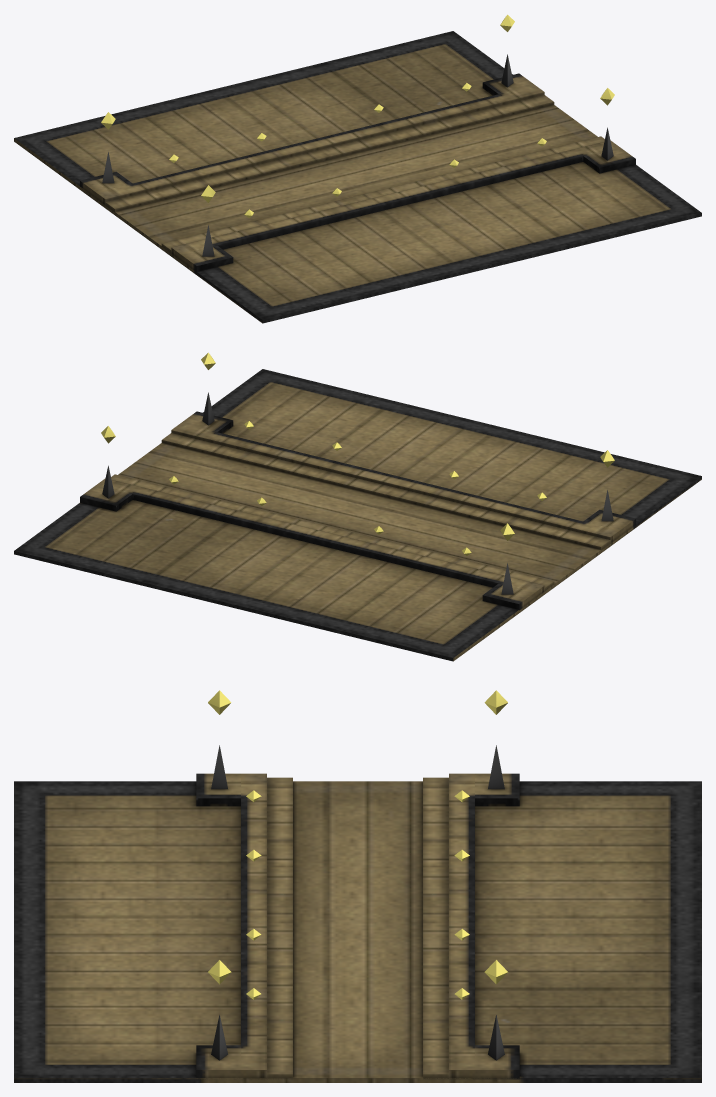
File: Airport001.fbx
3 renders of one model, top to bottom at view 1: azimuth 30°, elevation 25°; view 2: azimuth 150°, elevation 25°; view 3: azimuth 270°, elevation 25°, orthographic. The views are drawn at different scales.
Parts seen in each view (by area): view 1: airport, airport_light; view 2: airport, airport_light; view 3: airport, airport_light.
Part boxes in pixels (box(x1,y1,x2,y2)): airport: box(14, 31, 701, 323); airport_light: box(101, 14, 614, 217); airport: box(14, 369, 701, 661); airport_light: box(101, 352, 614, 555); airport: box(14, 745, 701, 1082); airport_light: box(208, 690, 507, 999).
Size of the model in its own units: 3 by 0.5172 by 2.94.
